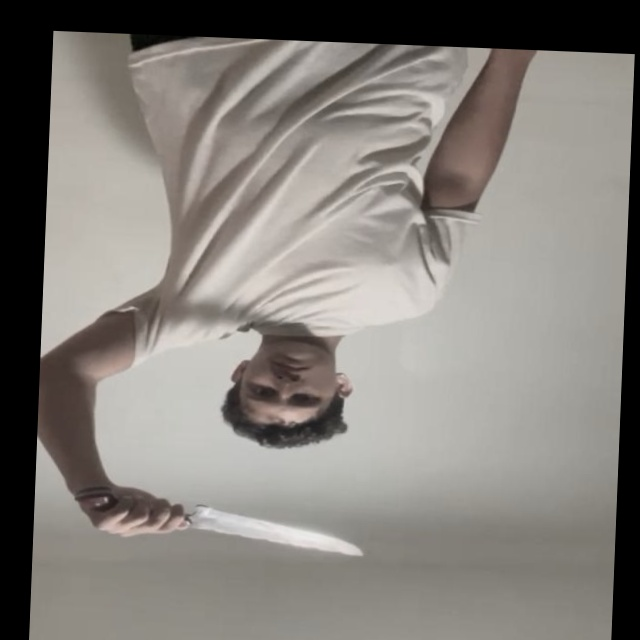Sharp-Object: (195, 507, 366, 557)
